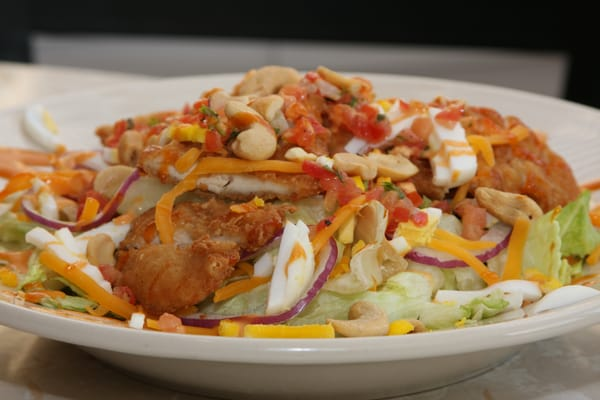sushi: (0, 47, 593, 394)
